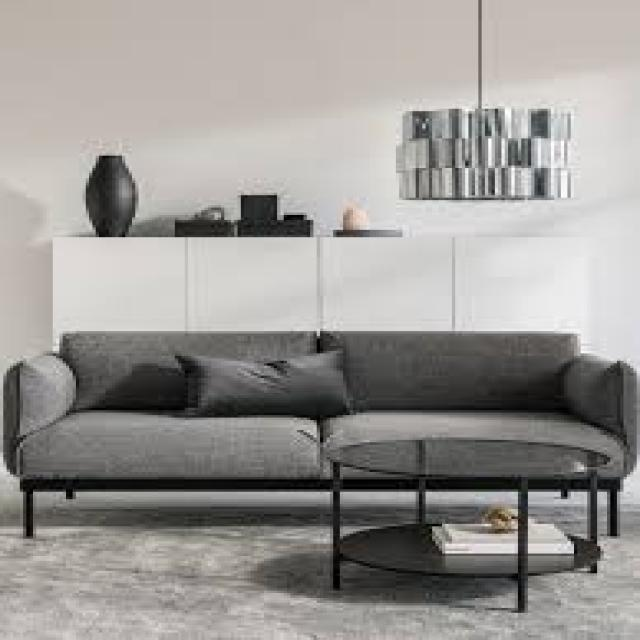Lamp: (392, 89, 612, 206)
Sofa: (26, 322, 640, 526)
Table: (299, 426, 631, 609)
